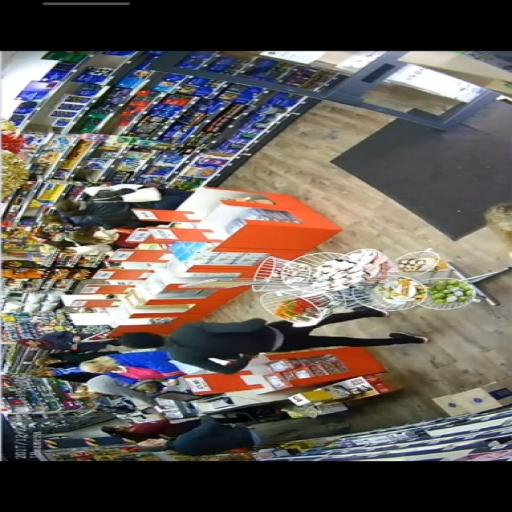workers: (111, 306, 430, 374), (101, 411, 268, 455), (54, 184, 168, 231), (32, 350, 190, 382), (20, 330, 127, 368), (77, 374, 184, 410), (52, 228, 126, 252)
